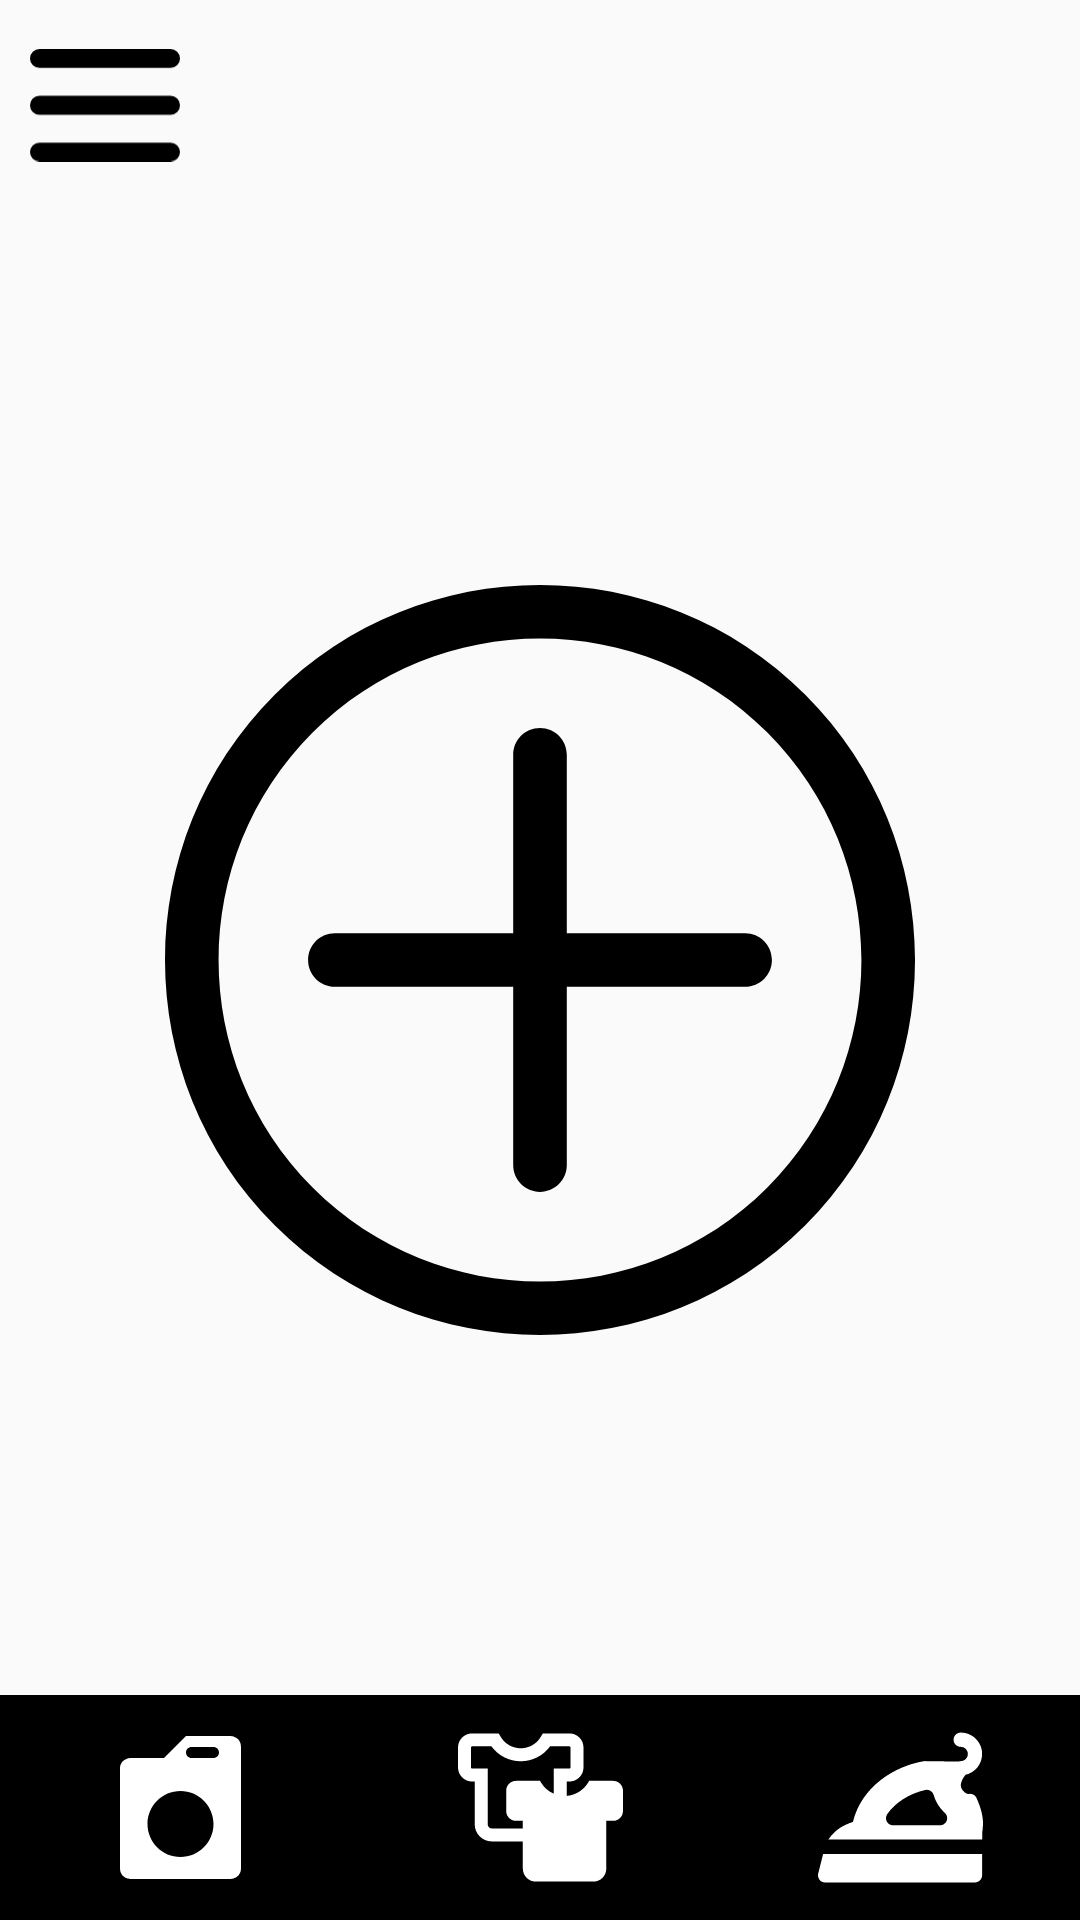

Point at icon controls on the screen. Image size 1080px×1920px, points as point (x, y).
dry: point (540, 1807)
iron: point (900, 1807)
laundry: point (180, 1807)
menu: point (105, 105)
